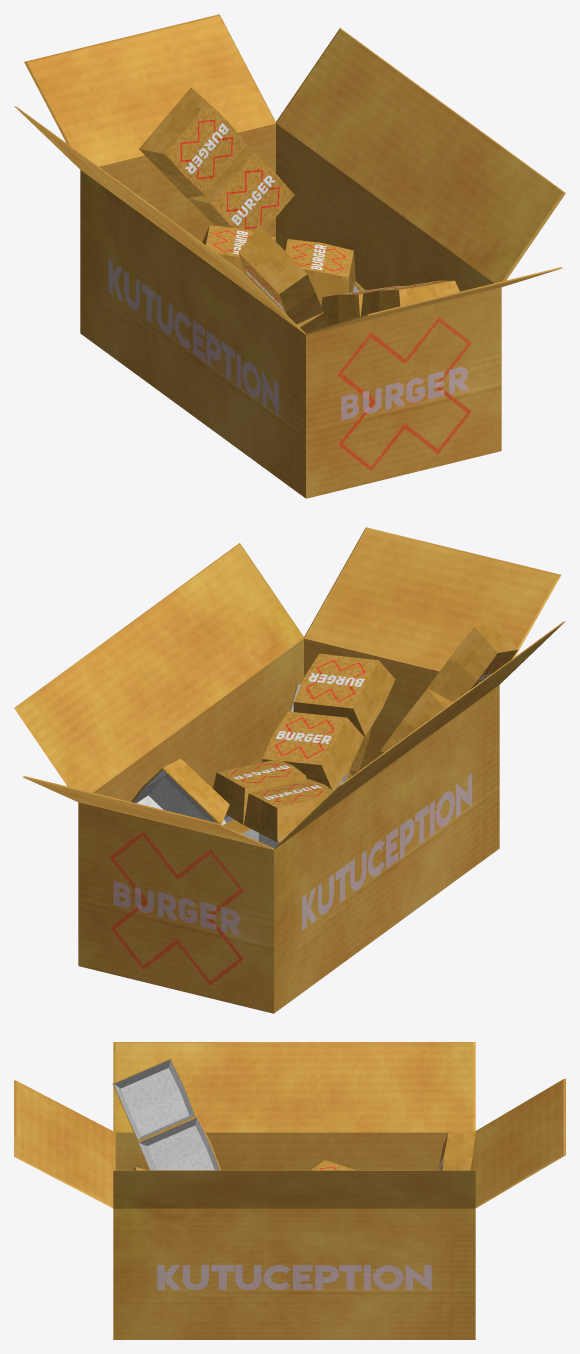
The model's file is BoxBox.fbx.
3 views of the same model, one above another, from view 1: azimuth 30°, elevation 25°; view 2: azimuth 150°, elevation 25°; view 3: azimuth 270°, elevation 25° (orthographic). The views are drawn at different scales.
Visible parts, largest first — view 1: BurgerBox_Top.011; view 2: BurgerBox_Top.011; view 3: BurgerBox_Top.011.
Boxes of the visible parts, x1,y1,x2,y2 form: BurgerBox_Top.011: (14,14,565,498); BurgerBox_Top.011: (14,527,565,1013); BurgerBox_Top.011: (14,1042,565,1339).
Size of the model in its own units: 167 by 123 by 305.
